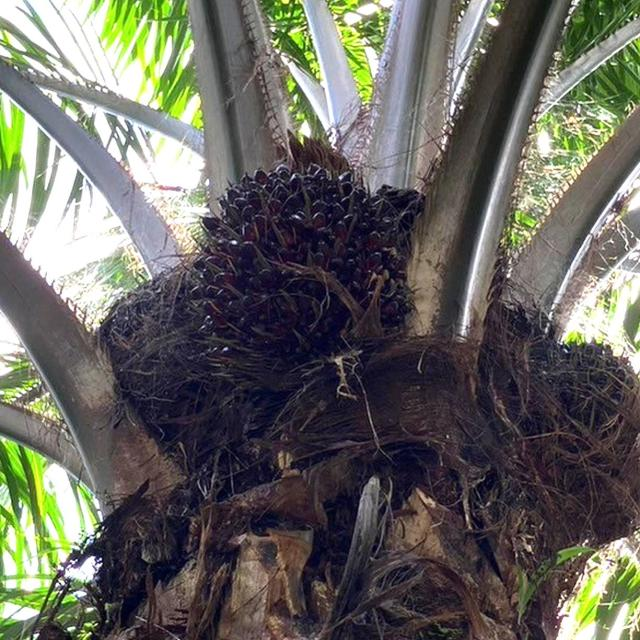ripe: (188, 166, 408, 399)
